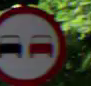No overtake: (0, 5, 67, 84)
